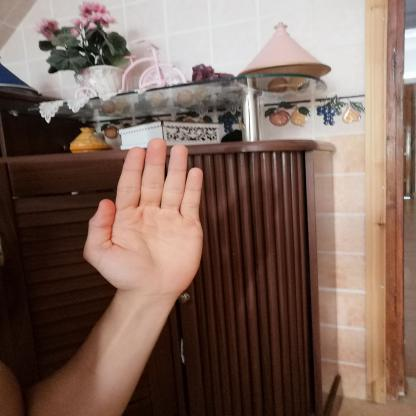SEEN: (72, 128, 218, 304)
